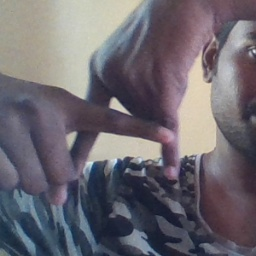H: (51, 57, 194, 187)
